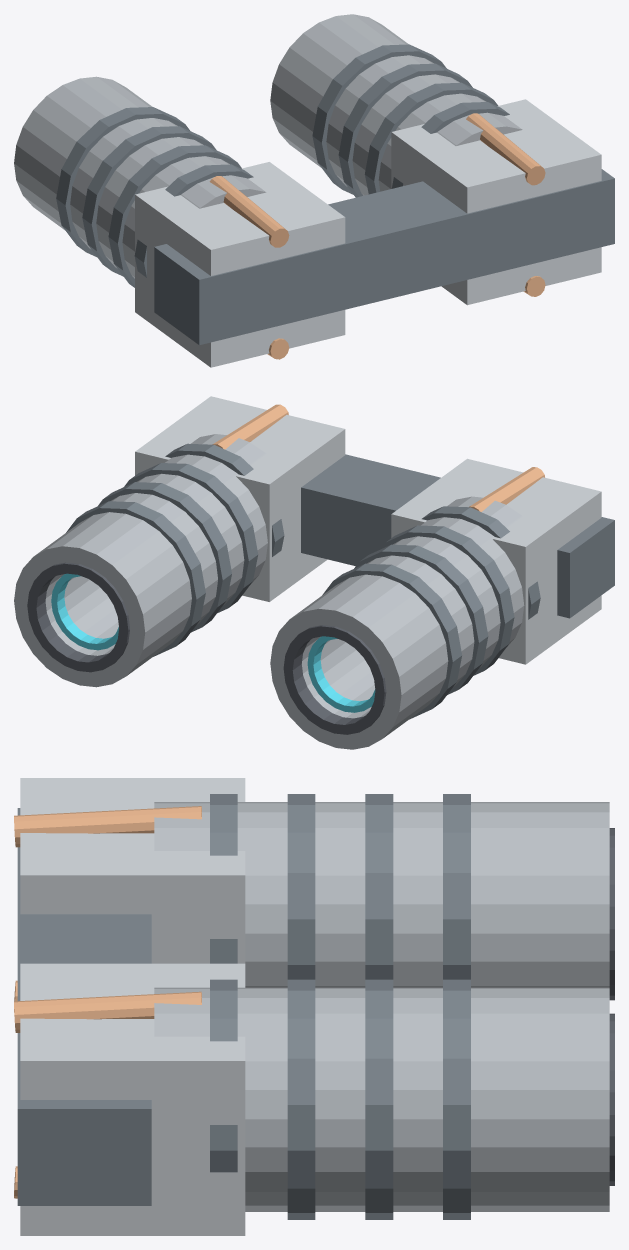
The model's file is engine_vortex.glb.
3 renders of one model, top to bottom at view 1: azimuth 30°, elevation 25°; view 2: azimuth 150°, elevation 25°; view 3: azimuth 270°, elevation 25°, orthographic. The views are drawn at different scales.
Parts seen in each view (by area): view 1: CASSETTE_CORE_CRADLE, MAIN_-1_ENGINE_BLOCK, MAIN_1_ENGINE_BLOCK, MAIN_-1_HOLLOW_BELL, MAIN_1_HOLLOW_BELL, MAIN_-1_HEAT_RING_2, MAIN_1_HEAT_RING_3, MAIN_-1_HEAT_RING_3, MAIN_-1_HEAT_RING_1, MAIN_1_HEAT_RING_2, MAIN_1_HEAT_RING_1, MAIN_-1_MOUNT_1 (+3 smaller); view 2: MAIN_-1_HOLLOW_BELL, MAIN_1_HOLLOW_BELL, CASSETTE_CORE_CRADLE, MAIN_-1_ENGINE_BLOCK, MAIN_1_ENGINE_BLOCK, MAIN_-1_INNER_RIM, MAIN_1_INNER_RIM, MAIN_1_HEAT_RING_3, MAIN_-1_HEAT_RING_3, MAIN_1_HEAT_RING_2, MAIN_-1_HEAT_RING_1, MAIN_-1_HEAT_RING_2 (+7 smaller); view 3: MAIN_1_HOLLOW_BELL, MAIN_-1_HOLLOW_BELL, MAIN_1_ENGINE_BLOCK, MAIN_-1_ENGINE_BLOCK, CASSETTE_CORE_CRADLE, MAIN_1_HEAT_RING_2, MAIN_1_HEAT_RING_1, MAIN_1_HEAT_RING_3, MAIN_-1_HEAT_RING_1, MAIN_-1_HEAT_RING_2, MAIN_-1_HEAT_RING_3, MAIN_-1_MOUNT_1 (+5 smaller).
Part boxes in pixels (bbox=[...]): CASSETTE_CORE_CRADLE: bbox=[154, 169, 614, 345]; MAIN_-1_ENGINE_BLOCK: bbox=[135, 162, 345, 367]; MAIN_1_ENGINE_BLOCK: bbox=[391, 99, 601, 305]; MAIN_-1_HOLLOW_BELL: bbox=[14, 76, 266, 278]; MAIN_1_HOLLOW_BELL: bbox=[270, 14, 522, 195]; MAIN_-1_HEAT_RING_2: bbox=[82, 126, 216, 276]; MAIN_1_HEAT_RING_3: bbox=[312, 44, 446, 194]; MAIN_-1_HEAT_RING_3: bbox=[56, 107, 189, 256]; MAIN_-1_HEAT_RING_1: bbox=[108, 145, 241, 287]; MAIN_1_HEAT_RING_2: bbox=[338, 63, 472, 197]; MAIN_1_HEAT_RING_1: bbox=[364, 82, 498, 194]; MAIN_-1_MOUNT_1: bbox=[209, 176, 289, 247]; MAIN_-1_HOLLOW_BELL: bbox=[270, 496, 524, 749]; MAIN_1_HOLLOW_BELL: bbox=[14, 434, 267, 687]; CASSETTE_CORE_CRADLE: bbox=[301, 454, 614, 618]; MAIN_-1_ENGINE_BLOCK: bbox=[391, 458, 601, 664]; MAIN_1_ENGINE_BLOCK: bbox=[135, 396, 345, 601]; MAIN_-1_INNER_RIM: bbox=[283, 625, 386, 734]; MAIN_1_INNER_RIM: bbox=[27, 562, 129, 672]; MAIN_1_HEAT_RING_3: bbox=[66, 501, 205, 656]; MAIN_-1_HEAT_RING_3: bbox=[322, 563, 462, 719]; MAIN_1_HEAT_RING_2: bbox=[98, 482, 231, 632]; MAIN_-1_HEAT_RING_1: bbox=[380, 525, 514, 675]; MAIN_-1_HEAT_RING_2: bbox=[354, 544, 488, 694]; MAIN_1_HOLLOW_BELL: bbox=[154, 987, 609, 1211]; MAIN_-1_HOLLOW_BELL: bbox=[154, 802, 609, 987]; MAIN_1_ENGINE_BLOCK: bbox=[20, 963, 245, 1235]; MAIN_-1_ENGINE_BLOCK: bbox=[20, 778, 245, 963]; CASSETTE_CORE_CRADLE: bbox=[17, 808, 151, 1205]; MAIN_1_HEAT_RING_2: bbox=[365, 979, 393, 1219]; MAIN_1_HEAT_RING_1: bbox=[287, 979, 315, 1219]; MAIN_1_HEAT_RING_3: bbox=[443, 979, 470, 1219]; MAIN_-1_HEAT_RING_1: bbox=[287, 794, 315, 979]; MAIN_-1_HEAT_RING_2: bbox=[365, 794, 393, 979]; MAIN_-1_HEAT_RING_3: bbox=[443, 794, 470, 979]; MAIN_-1_MOUNT_1: bbox=[14, 806, 201, 847].
Size of the model in its own units: 1.33 by 0.4494 by 1.12.
